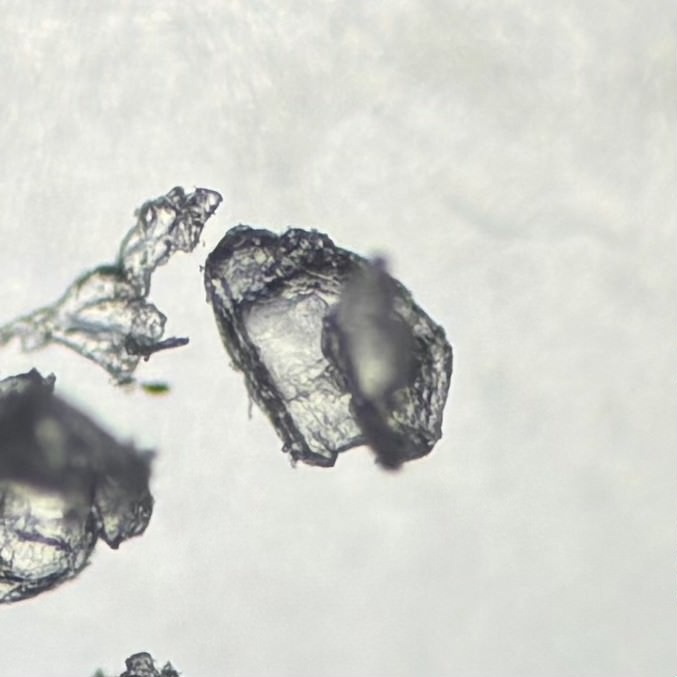microplastic: (198, 221, 454, 475), (1, 187, 223, 384), (1, 367, 162, 608), (113, 651, 178, 677)
